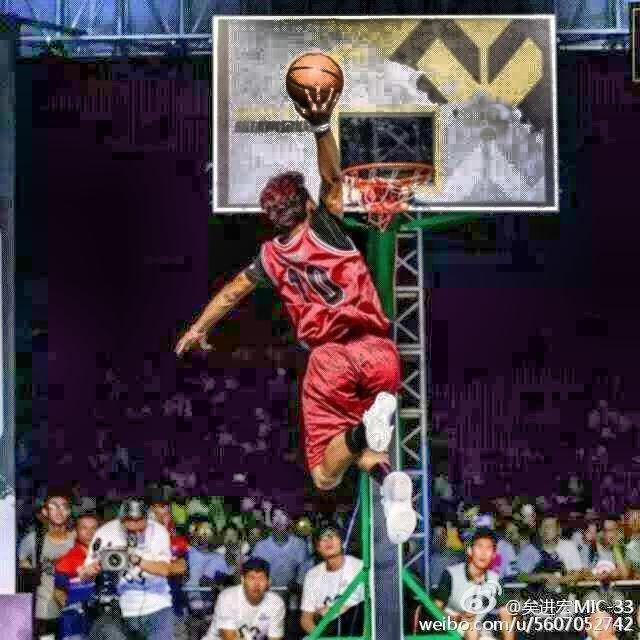board: (286, 52, 344, 104)
